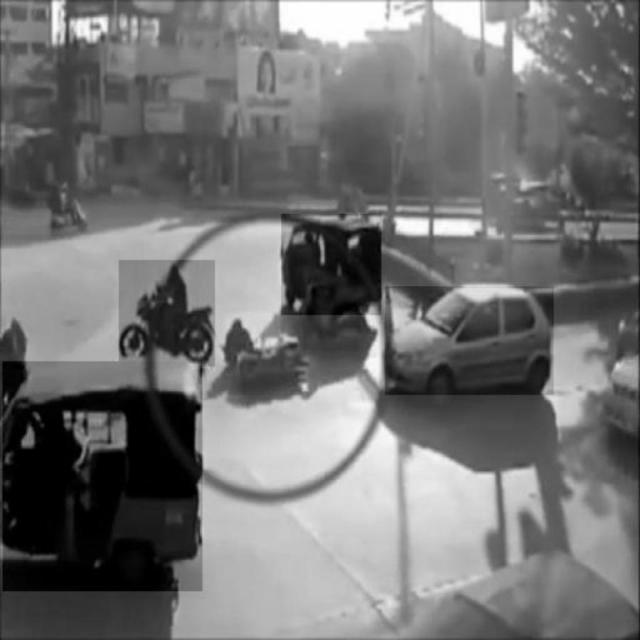vehicle: (2, 362, 203, 592), (385, 287, 553, 395), (119, 260, 215, 366), (282, 214, 382, 315), (226, 313, 308, 397), (303, 271, 371, 351)
